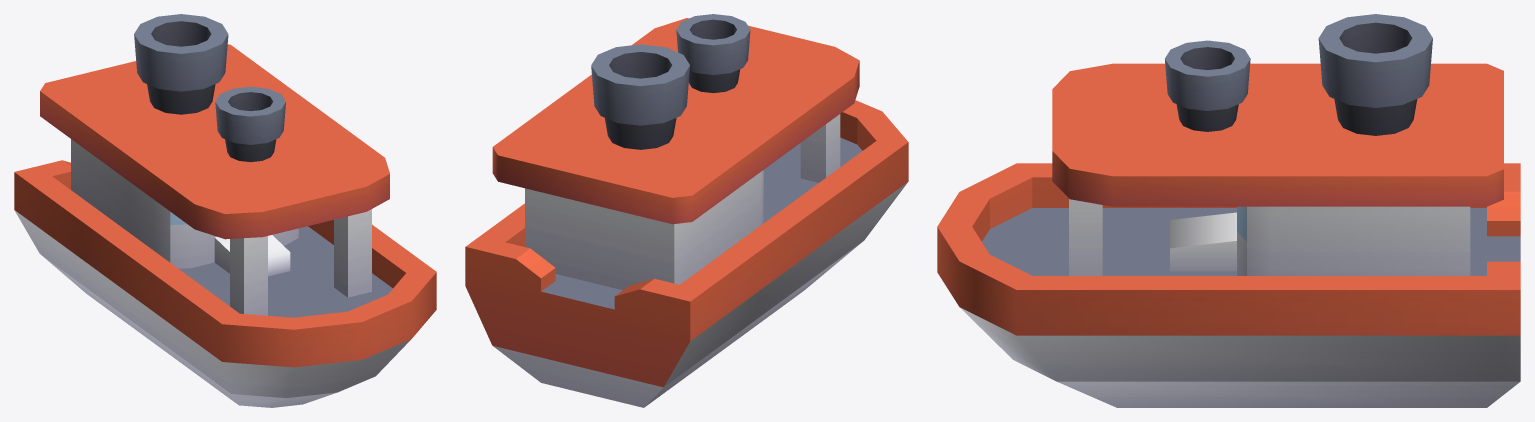
Rendered from k.boat_tug_a.glb.
3 views of the same model, side by side, from view 1: azimuth 30°, elevation 25°; view 2: azimuth 150°, elevation 25°; view 3: azimuth 270°, elevation 25° (orthographic). The views are drawn at different scales.
Parts seen in each view (by area): view 1: boat-tug-a; view 2: boat-tug-a; view 3: boat-tug-a.
Part boxes in pixels (<box>): boat-tug-a: <box>14,14,436,407</box>; boat-tug-a: <box>465,14,908,407</box>; boat-tug-a: <box>937,14,1520,407</box>.
Bounding box in the file's own units: 2.27 × 2.85 × 4.42.
1 material, 1 textured.
